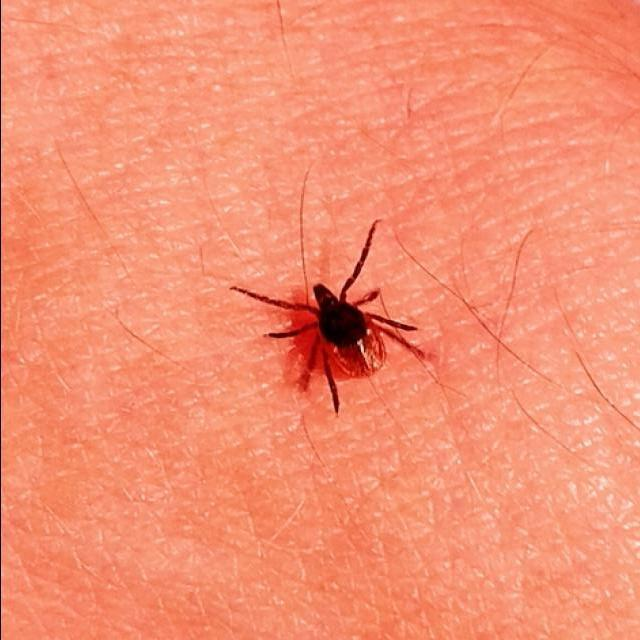Ixodes Ricinus-F: (239, 220, 424, 415)
